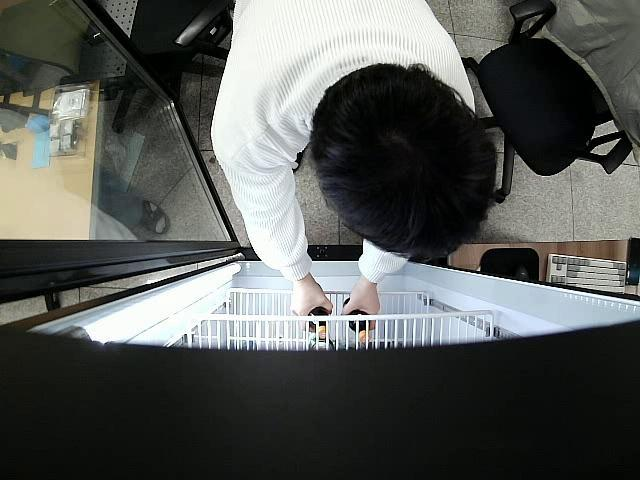17_vita500: (342, 297, 372, 339), (311, 308, 330, 338)
